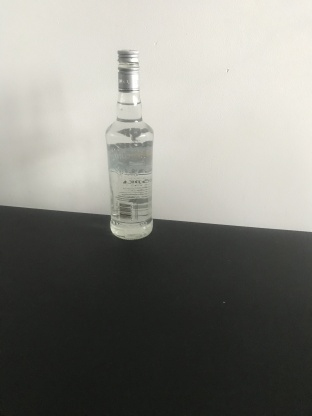nakretka: (117, 47, 141, 93)
